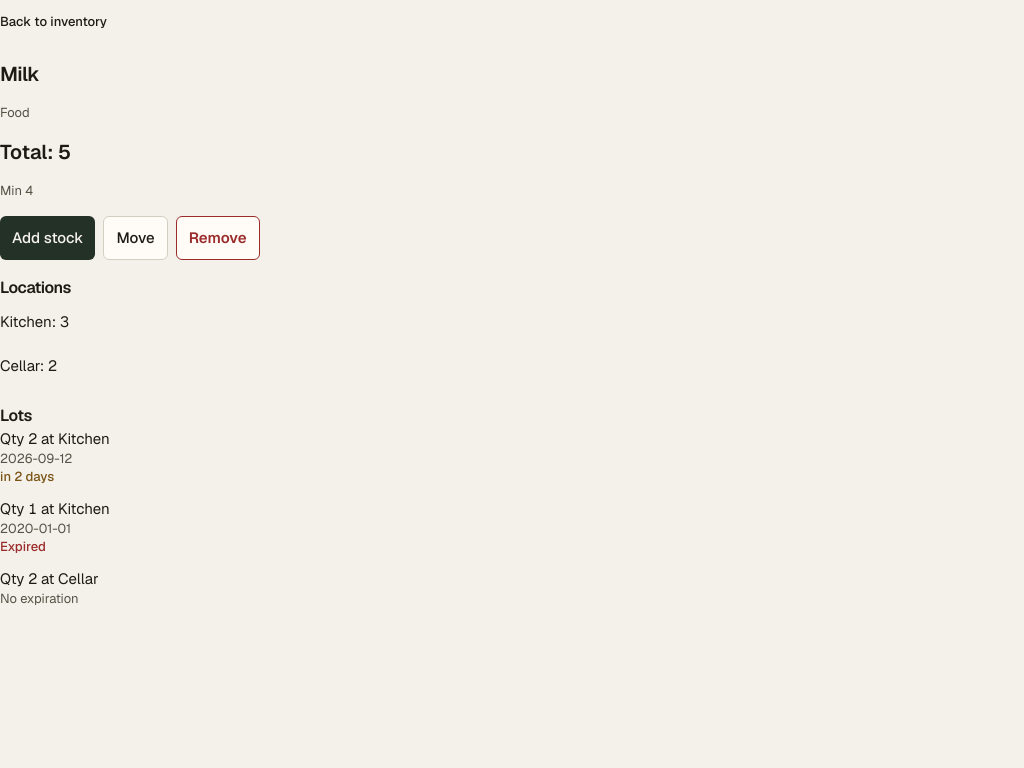
InventoryProductScreen › keeps the add form open and shows a mapped error on failure
This screenshot has width=1024, height=768.
Check: the heading "Milk" is shown, box [0,61,39,87]
Click the button "Add stock". click: coordinates (48, 238)
box: [0,216,95,260]
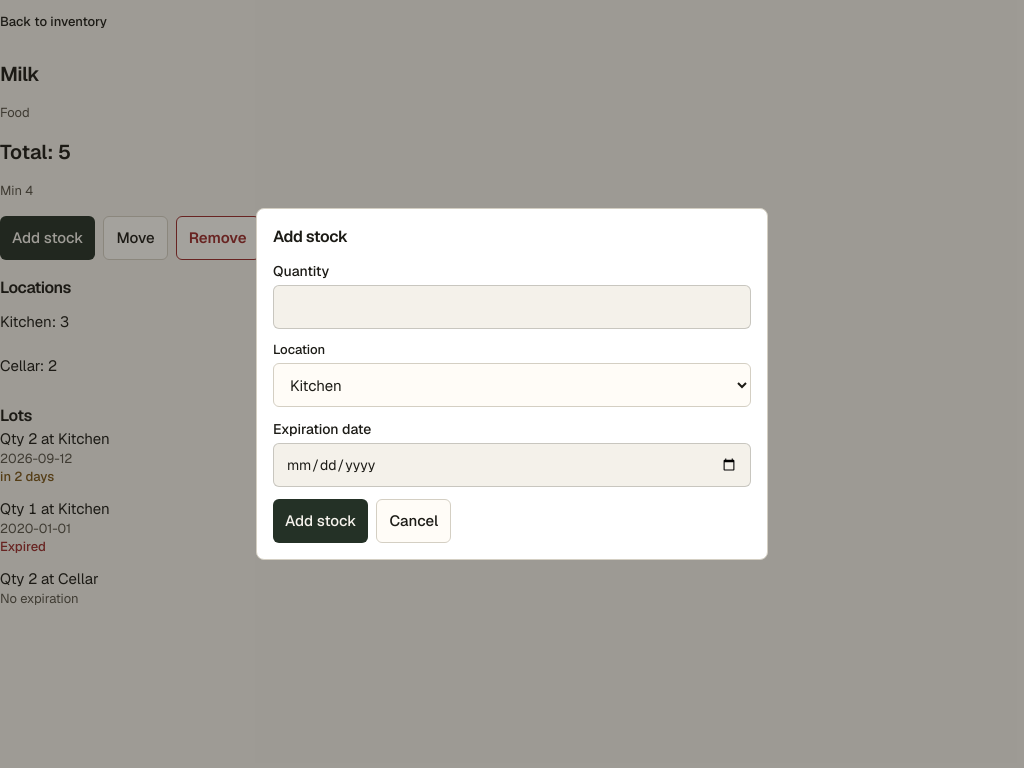
Type "2" into the field labelled "Quantity". click: coordinates (512, 307)
box: [273,285,751,329]
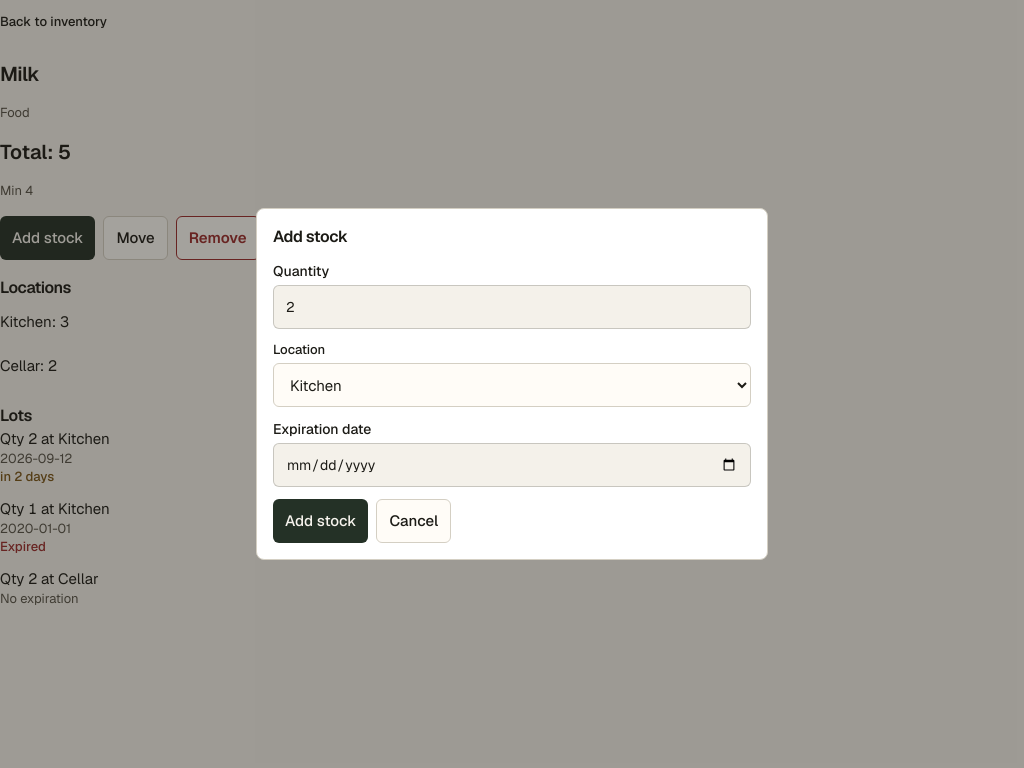
Submit the form "Add stock", box [273,261,751,543]
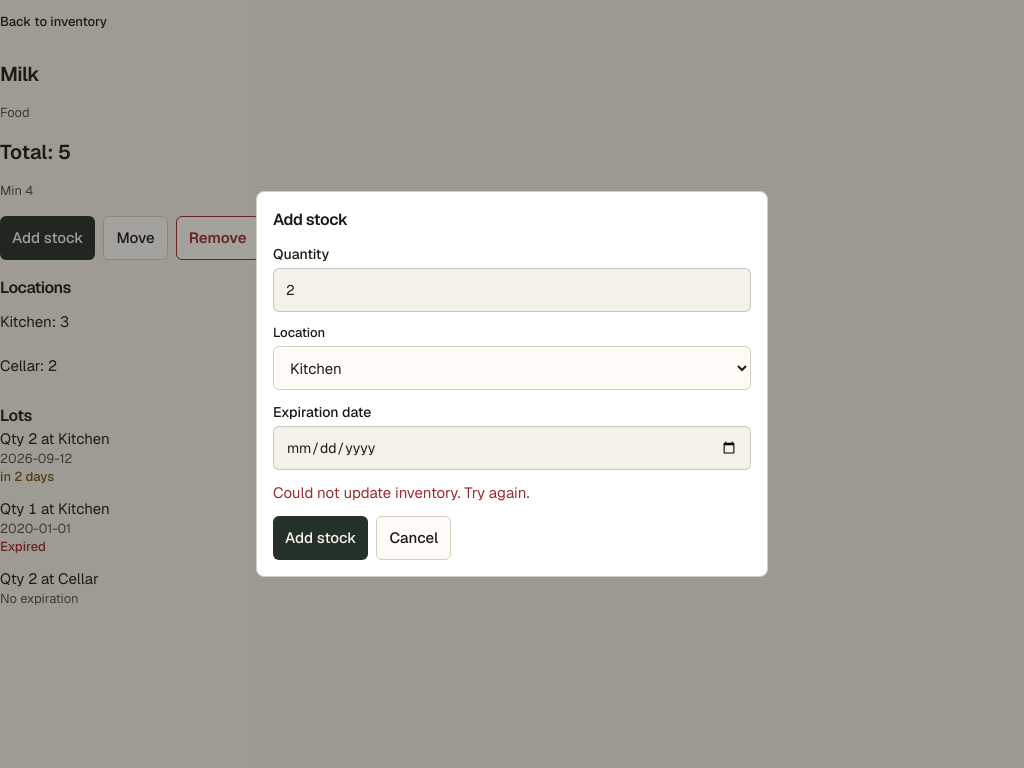
Check: the dialog "Add stock" is shown, box [256,191,768,577]
Check: the text "Could not update inventory. Try again." is shown, box [273,483,530,502]
